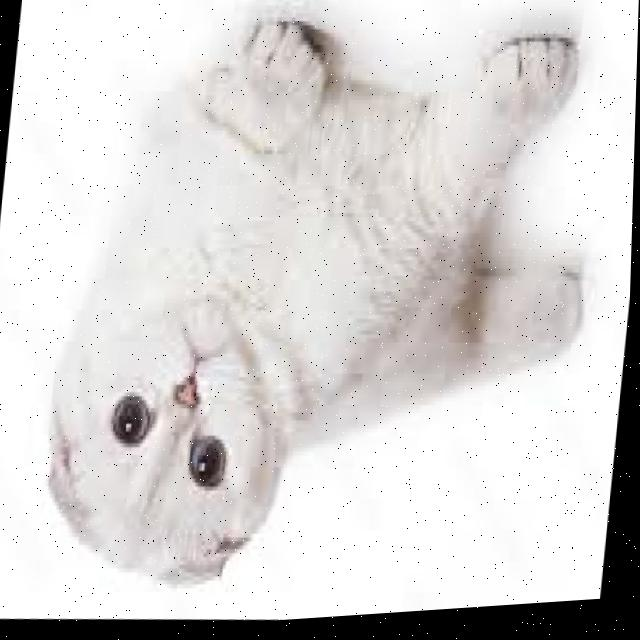Scottish Fold: (31, 0, 620, 631)
